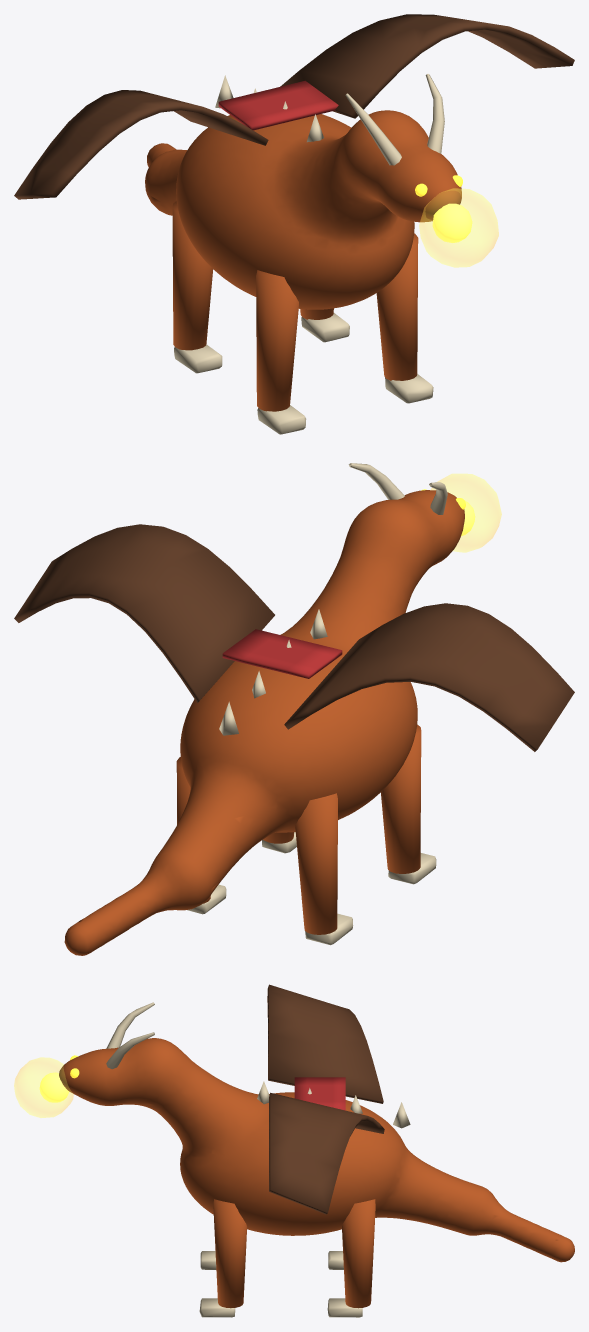
Rendered from drake.glb.
3 views of the same model, one above another, from view 1: azimuth 30°, elevation 25°; view 2: azimuth 150°, elevation 25°; view 3: azimuth 270°, elevation 25° (orthographic). The views are drawn at different scales.
Visible parts, largest first — view 1: copper, leather, horn, sun_veil, team, sun.001; view 2: copper, leather, horn, team, sun_veil; view 3: copper, leather, horn, sun_veil, team, sun.001.
Boxes of the visible parts, bbox=[...] form: copper: bbox=[145, 110, 461, 411]; leather: bbox=[14, 14, 574, 199]; horn: bbox=[174, 74, 444, 434]; sun_veil: bbox=[419, 188, 498, 267]; team: bbox=[218, 80, 338, 130]; sun.001: bbox=[432, 203, 472, 242]; copper: bbox=[64, 490, 464, 955]; leather: bbox=[14, 524, 574, 751]; horn: bbox=[187, 463, 447, 945]; team: bbox=[222, 629, 342, 678]; sun_veil: bbox=[431, 474, 501, 552]; copper: bbox=[59, 1038, 574, 1308]; leather: bbox=[267, 984, 384, 1214]; horn: bbox=[106, 1002, 410, 1317]; sun_veil: bbox=[14, 1057, 73, 1117]; team: bbox=[294, 1077, 345, 1110]; sun.001: bbox=[39, 1072, 69, 1102].
Bounding box in the file's own units: 1.81 × 1.18 × 2.2.
